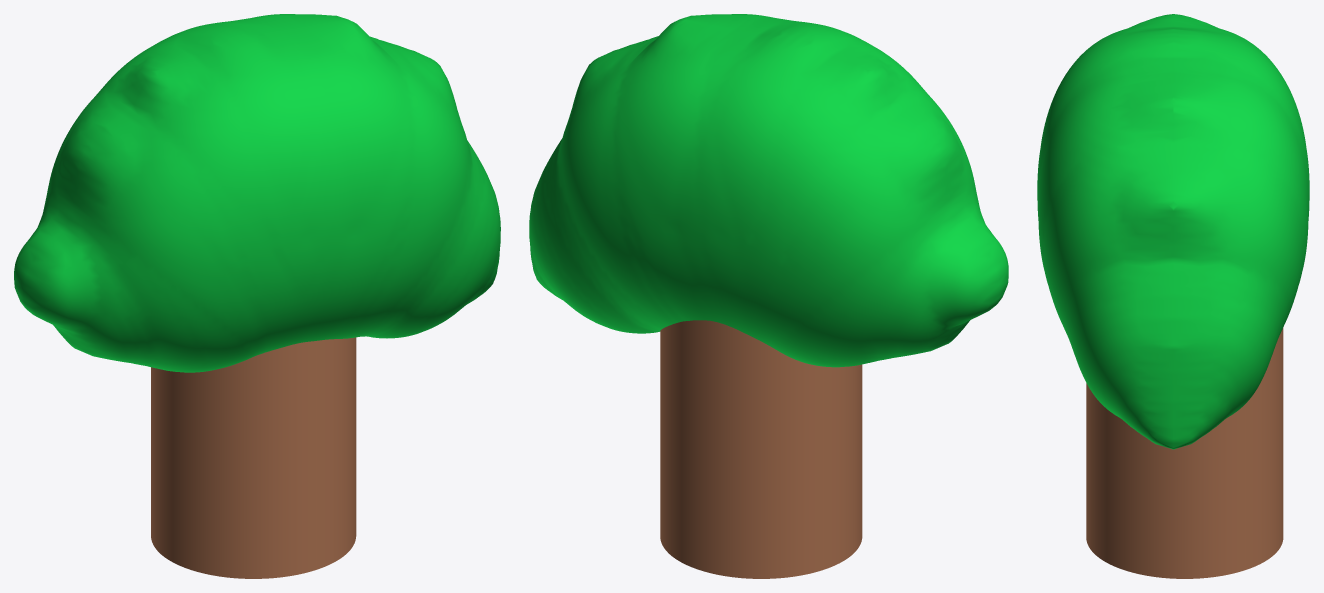
File: treeTest.fbx
3 views of the same model, side by side, from view 1: azimuth 30°, elevation 25°; view 2: azimuth 150°, elevation 25°; view 3: azimuth 270°, elevation 25° (orthographic). The views are drawn at different scales.
Visible parts, largest first — view 1: root (×2); view 2: root (×2); view 3: root (×2).
Part boxes in pixels (<box>): root (×2): <box>14,14,500,578</box>; root (×2): <box>529,14,1008,578</box>; root (×2): <box>1037,14,1309,578</box>.
Size of the model in its own units: 0.4786 by 0.4994 by 0.2521.
